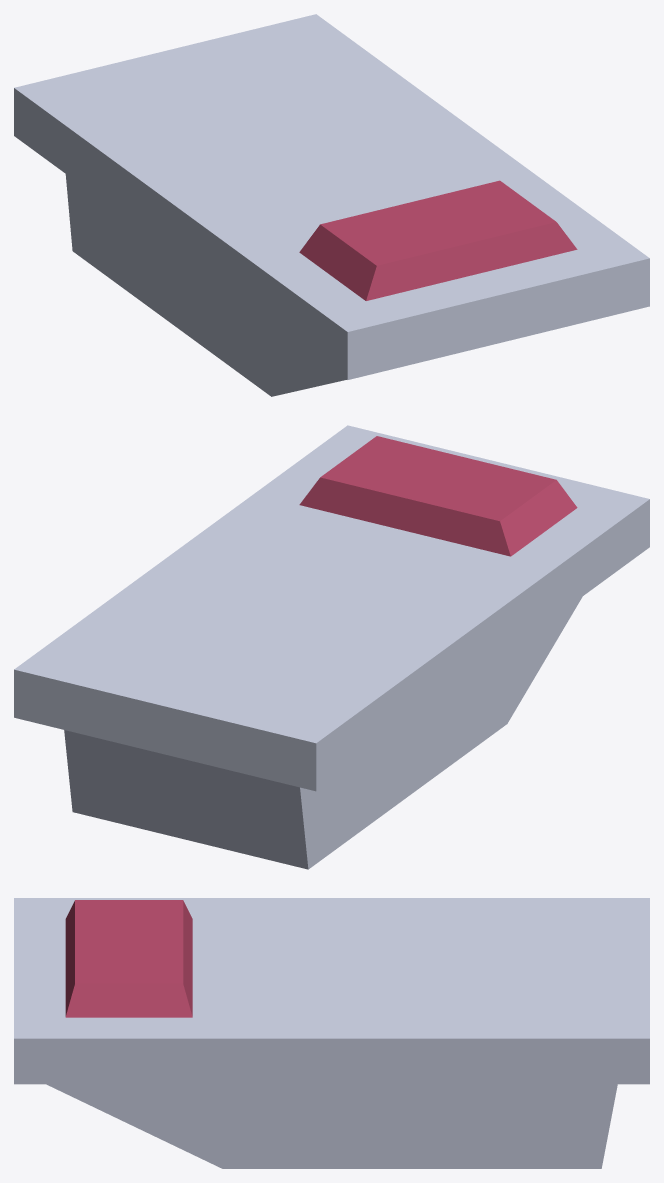
The picture shows the model from 3 angles, top to bottom: view 1: azimuth 30°, elevation 25°; view 2: azimuth 150°, elevation 25°; view 3: azimuth 270°, elevation 25°; orthographic projection. The views are drawn at different scales.
Visible parts, largest first — view 1: object_066; view 2: object_066; view 3: object_066.
Boxes of the visible parts, x1,y1,x2,y2 form: object_066: (14,14,649,396); object_066: (14,425,649,869); object_066: (14,898,649,1168).
Size of the model in its own units: 4.55 by 2.6 by 8.7.
